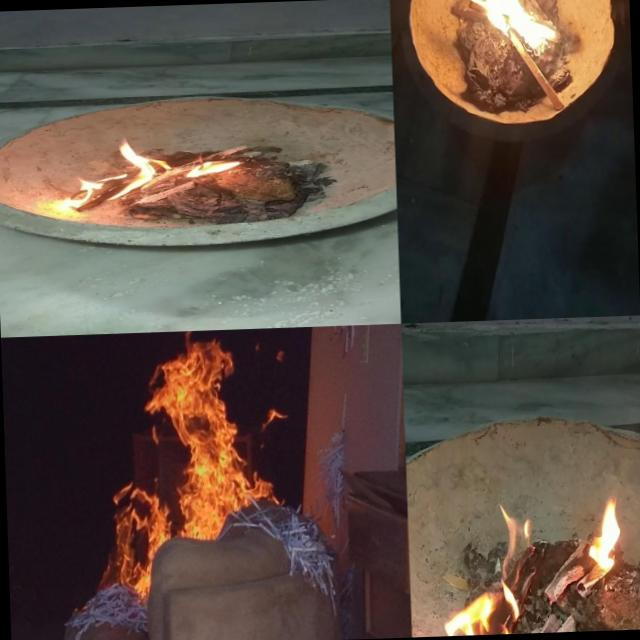fire: (66, 328, 270, 603), (43, 141, 255, 215), (436, 497, 536, 636), (471, 0, 562, 60), (578, 476, 626, 582)
